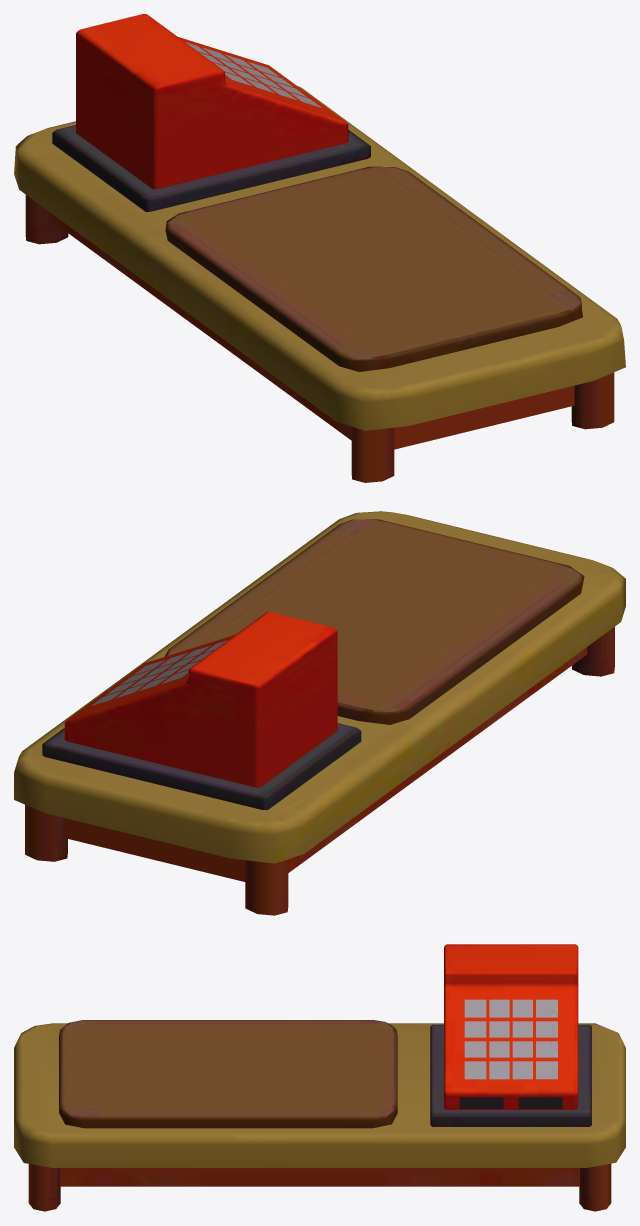
3 renders of one model, top to bottom at view 1: azimuth 30°, elevation 25°; view 2: azimuth 150°, elevation 25°; view 3: azimuth 270°, elevation 25°, orthographic. The views are drawn at different scales.
Parts seen in each view (by area): view 1: 收银桌子; view 2: 收银桌子; view 3: 收银桌子.
Part boxes in pixels (x1,y1,x2,y2): 收银桌子: (14, 14, 625, 482); 收银桌子: (14, 511, 625, 915); 收银桌子: (14, 944, 625, 1211).
Bounding box in the file's own units: 3.27 × 2.29 × 7.2.
Materials: 1 (1 with a texture image).
